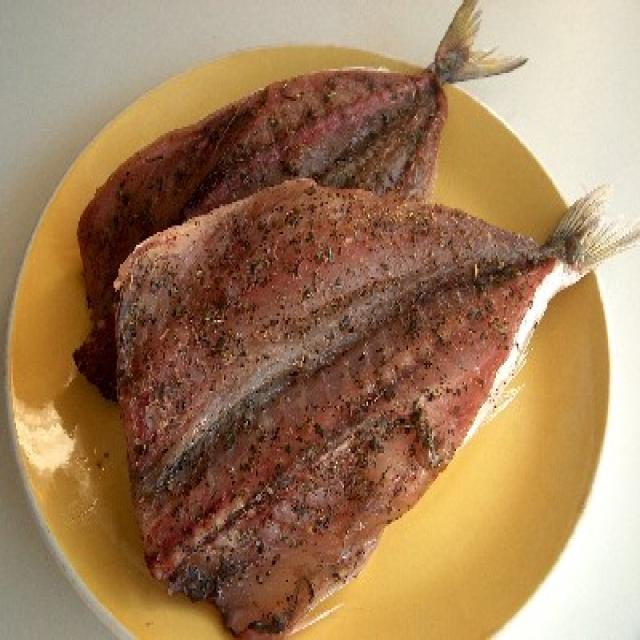熟制海鲜: (37, 58, 619, 619)
